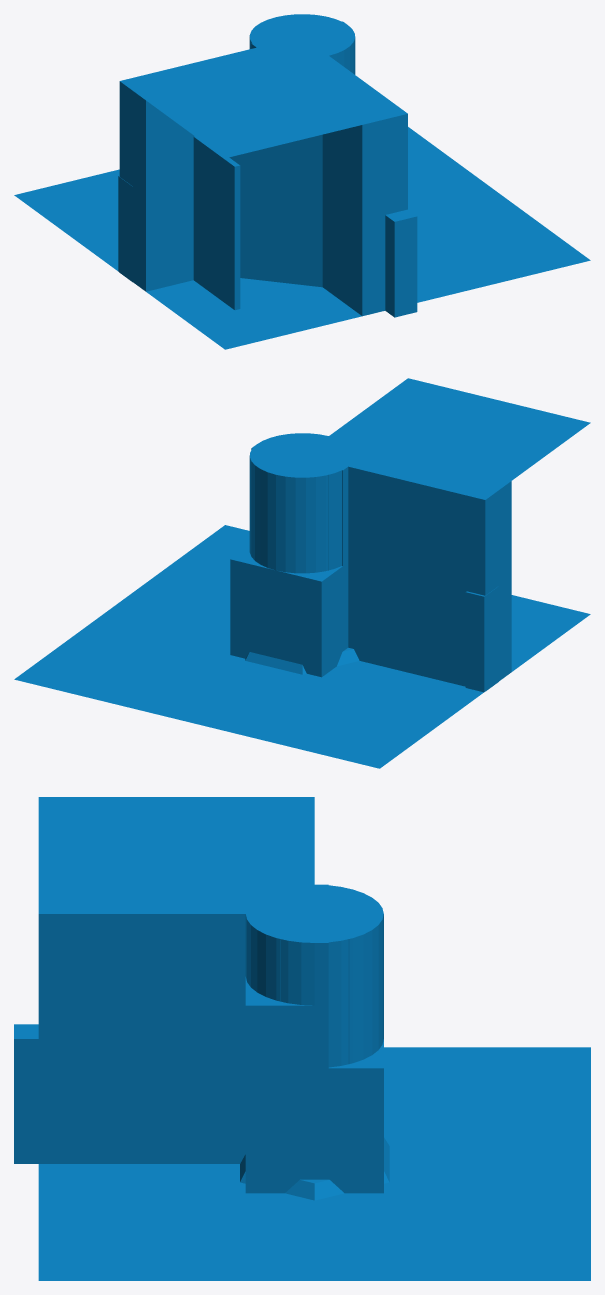
File: BasicShapes.glb
3 views of the same model, one above another, from view 1: azimuth 30°, elevation 25°; view 2: azimuth 150°, elevation 25°; view 3: azimuth 270°, elevation 25° (orthographic). The views are drawn at different scales.
Parts seen in each view (by area): view 1: FloorThin 8x8, WallOne CornerCut, WallOne Corner, WallThin Corner Topped, WallThin CornerCut Topped, WallOne DoorOpen, WallOneShort CornerCut, WallOne DoorWay, Fence Corner, CylinderHex 2x4, Cylinder 2x4, Fence Section; view 2: FloorThin 8x8, WallThin CornerCut Topped, WallThin Corner Topped, Cylinder 2x4, WallOne DoorWay, Box 2x2 Wedge, WallOne, WallOne CornerCut, Stairs_corner_in, WallOne WindowShut, WallThin, CylinderHex 2x4 (+11 smaller); view 3: FloorThin 8x8, WallOne CornerCut, WallThin Corner Topped, Cylinder 2x4, WallThin corner, WallThin CornerCut Topped, Door.002, Cube, WallOneShort CornerCut, Prisim.001, BoxCrate, WallOne Corner (+11 smaller).
Boxes of the visible parts, x1,y1,x2,y2 form: FloorThin 8x8: (14, 127, 590, 349); WallOne CornerCut: (125, 58, 405, 287); WallOne Corner: (133, 83, 407, 315); WallThin Corner Topped: (194, 36, 407, 157); WallThin CornerCut Topped: (120, 59, 313, 158); WallOne DoorOpen: (121, 80, 240, 310); WallOneShort CornerCut: (146, 230, 385, 316); WallOne DoorWay: (119, 81, 145, 291); Fence Corner: (118, 175, 417, 317); CylinderHex 2x4: (249, 17, 355, 55); Cylinder 2x4: (249, 14, 355, 74); Fence Section: (119, 177, 132, 281); FloorThin 8x8: (14, 525, 590, 768); WallThin CornerCut Topped: (376, 421, 590, 685); WallThin Corner Topped: (303, 378, 587, 661); Cylinder 2x4: (249, 433, 347, 573); WallOne DoorWay: (348, 467, 511, 686); Box 2x2 Wedge: (233, 545, 342, 676); WallOne: (348, 467, 484, 679); WallOne CornerCut: (377, 439, 511, 681); Stairs_corner_in: (232, 548, 343, 676); WallOne WindowShut: (348, 538, 464, 673); WallThin: (348, 467, 479, 676); CylinderHex 2x4: (249, 436, 341, 570); FloorThin 8x8: (38, 1047, 590, 1280); WallOne CornerCut: (38, 797, 314, 1101); WallThin Corner Topped: (38, 797, 314, 1163); Cylinder 2x4: (245, 884, 383, 1067); WallThin corner: (129, 914, 245, 1108); WallThin CornerCut Topped: (38, 797, 314, 868); Door.002: (245, 977, 314, 1191); Cube: (245, 1043, 383, 1193); WallOneShort CornerCut: (38, 1101, 176, 1163); Prisim.001: (252, 1069, 383, 1193); BoxCrate: (245, 1044, 383, 1193); WallOne Corner: (176, 797, 314, 1124).
Bounding box in the file's own units: 8.01 × 4.44 × 8.36.
